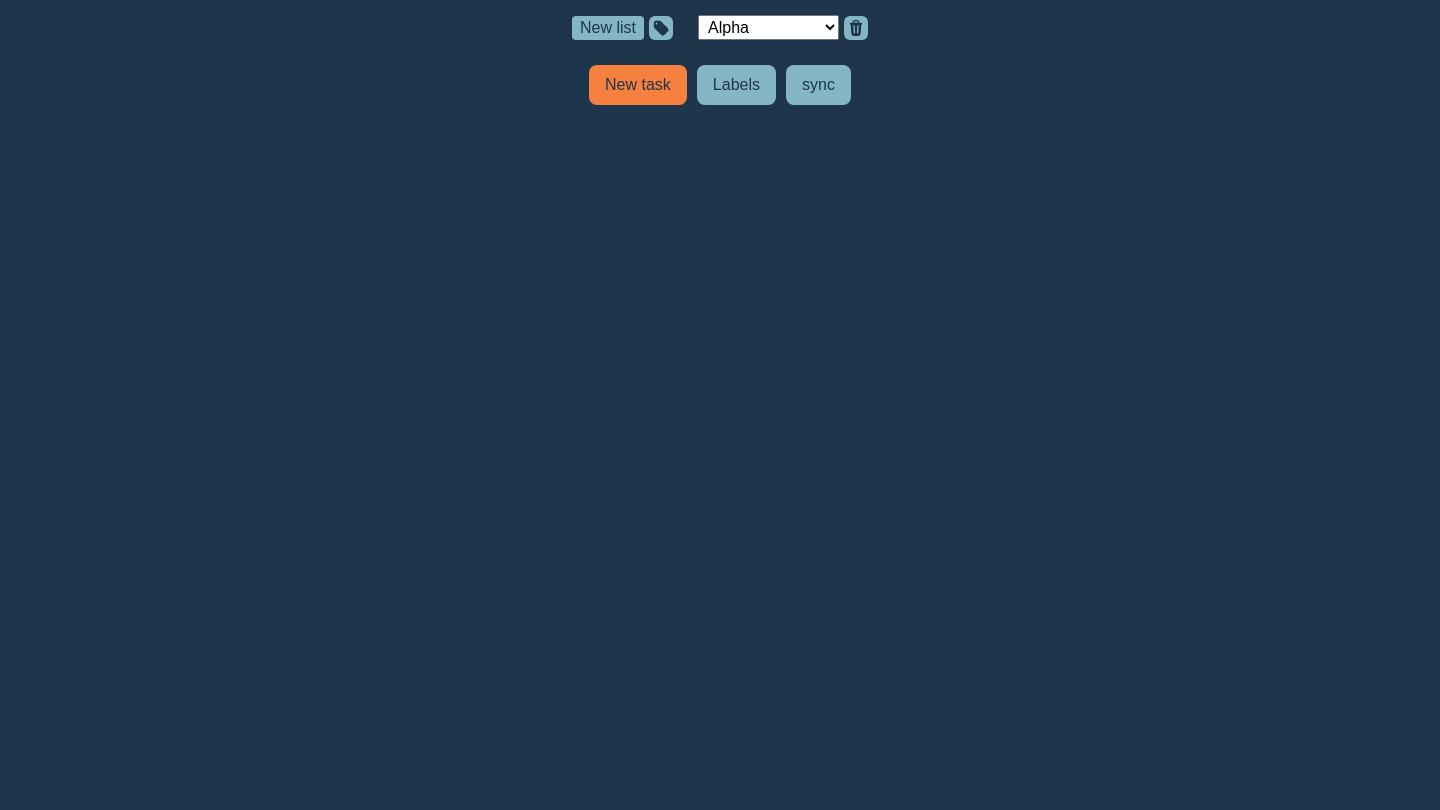
Scenario: warns about duplicate names in the create form and blocks submit
The image size is (1440, 810).
Expected: the dropdown shows "Alpha", [698, 15, 839, 40]
Click the button "New list". click: (608, 28)
box: [572, 16, 644, 40]
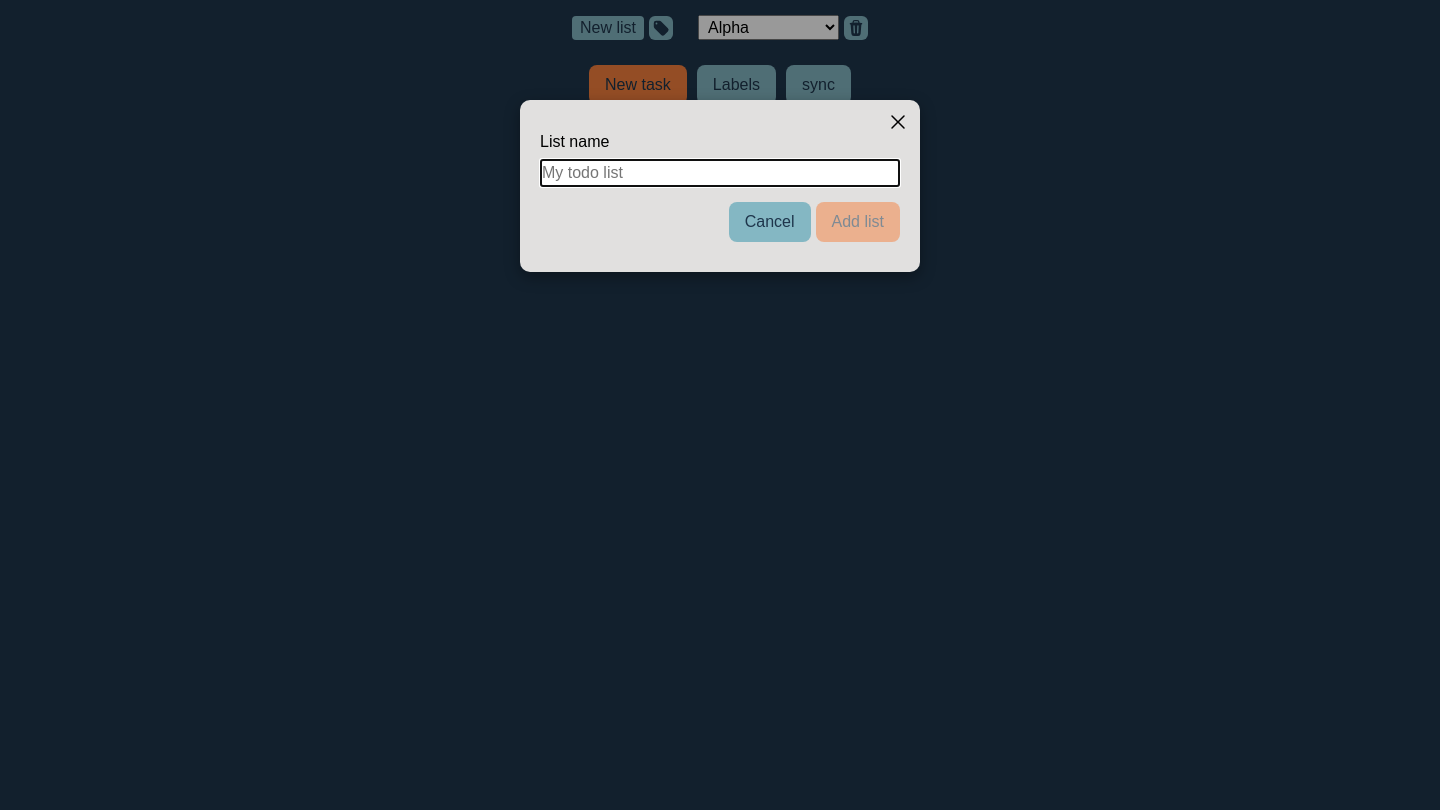
Type "alpha" into the field labelled "List name". click: (720, 173)
box: [540, 159, 900, 187]
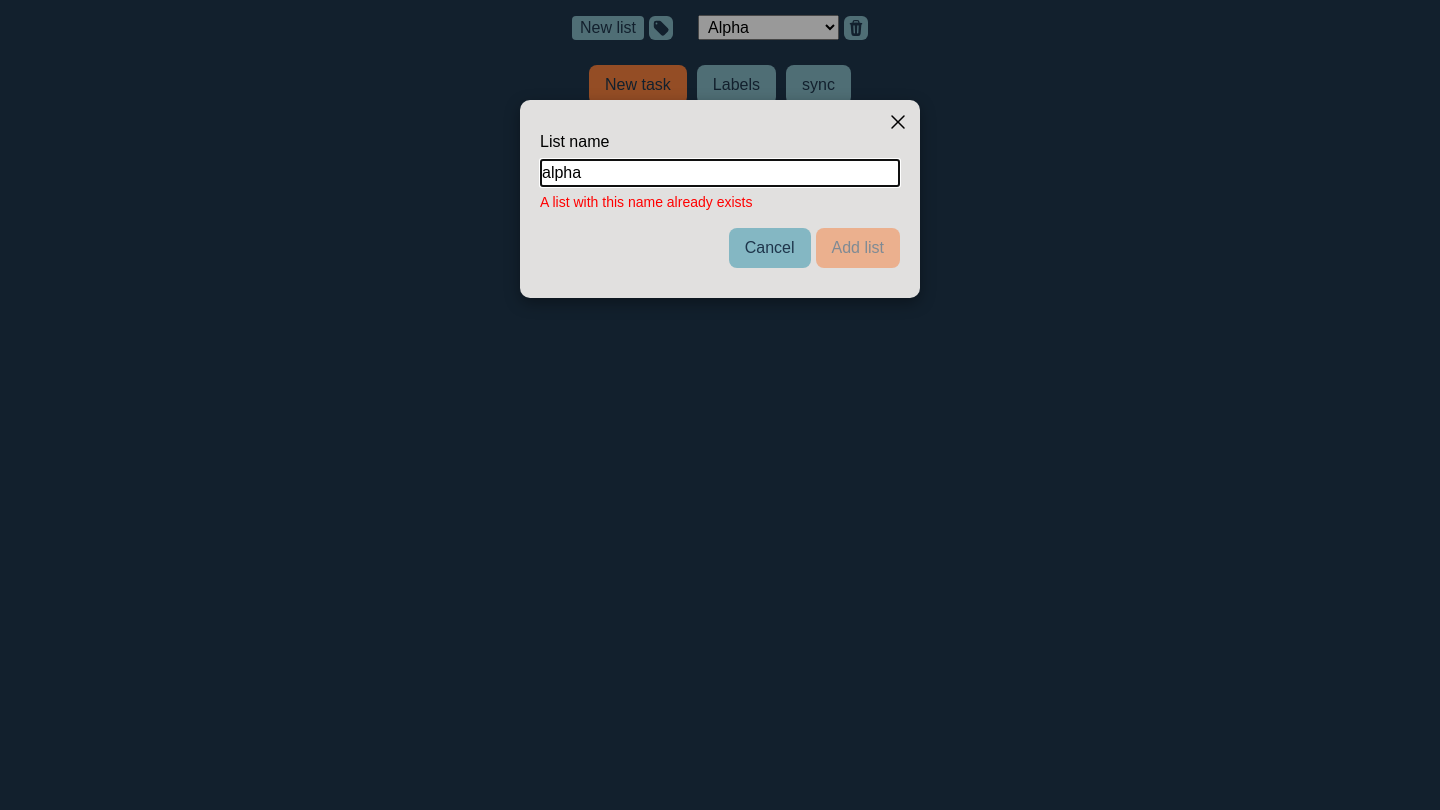
Expected: the button "Add list" is disabled, [816, 228, 900, 268]
Expected: the text "A list with this name already exists" is shown, [540, 194, 752, 210]
